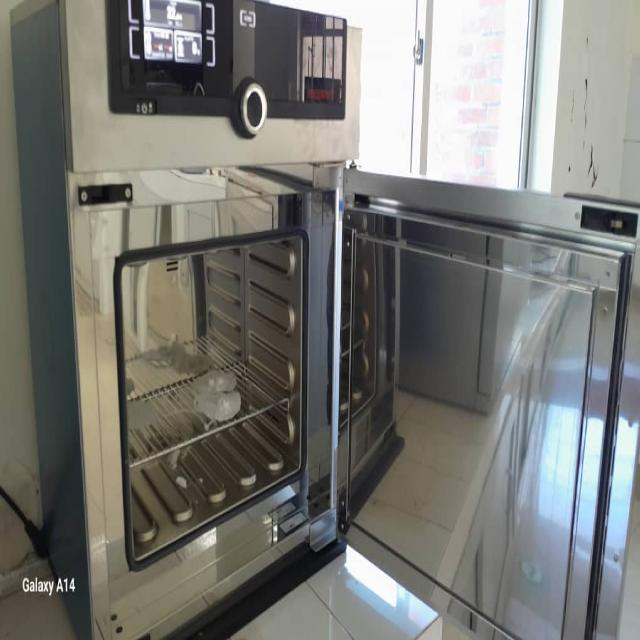Incubator: (11, 11, 343, 602)
